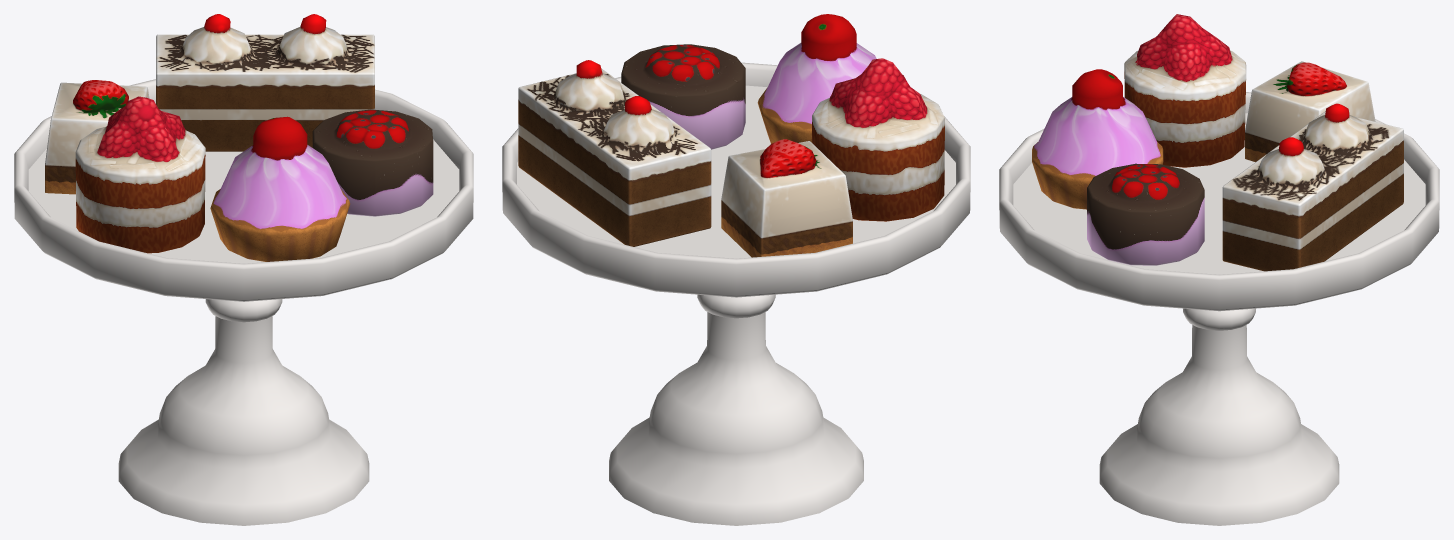
The model's file is BuffetDesserts01_4.FBX.
3 renders of one model, left to right at view 1: azimuth 30°, elevation 25°; view 2: azimuth 150°, elevation 25°; view 3: azimuth 270°, elevation 25°, orthographic. The views are drawn at different scales.
Parts seen in each view (by area): view 1: BuffetDesserts01_4; view 2: BuffetDesserts01_4; view 3: BuffetDesserts01_4.
Boxes of the visible parts, <box> form: BuffetDesserts01_4: <box>14,14,473,525</box>; BuffetDesserts01_4: <box>502,14,970,525</box>; BuffetDesserts01_4: <box>999,14,1439,525</box>.
Size of what is drawn, in the model's own units: 0.3615 by 0.3578 by 0.356.
